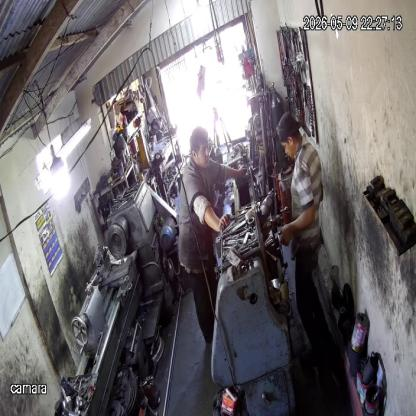sin_lentes: (196, 144, 210, 157)
